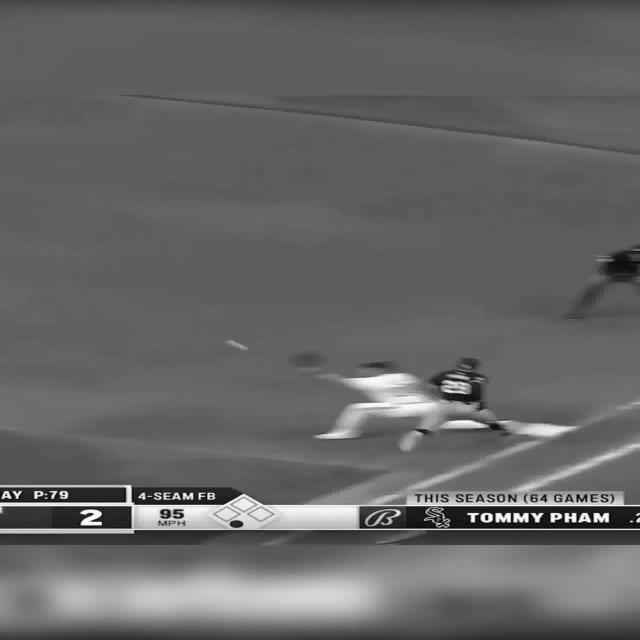baseball: (223, 339, 249, 351)
baseball_glove: (296, 353, 322, 372)
shoe: (398, 429, 424, 452), (312, 432, 358, 440), (488, 422, 512, 436)
